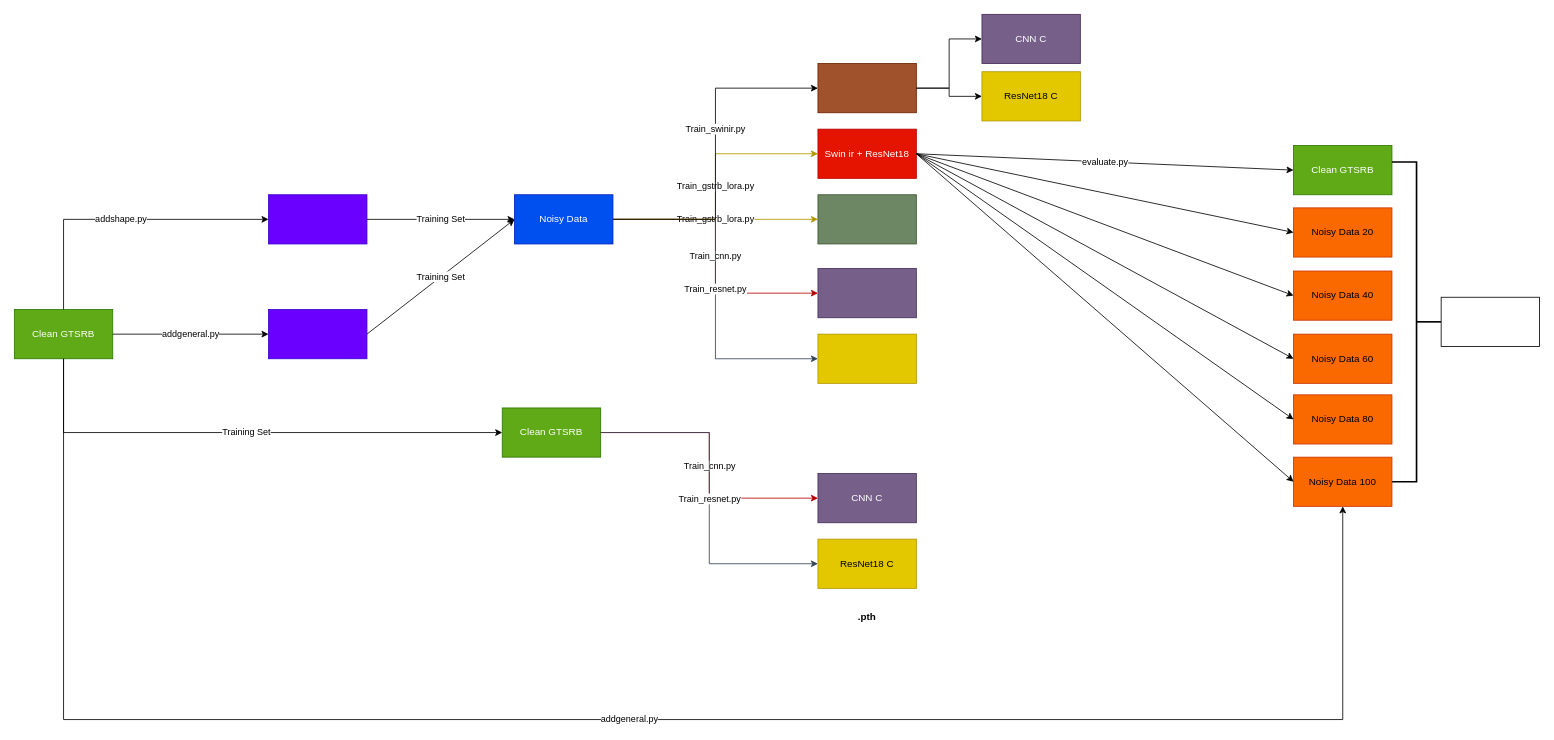
Some shapes in this 1554 by 740 pixel diagram are drawn without their labels. Here are the shapes that lost their labels. From the top down, the centre of each, then its label:
the point at 866,88: SwinIR
the point at 317,219: Graffiti
the point at 866,219: Swin ir + CNN
the point at 866,293: CNN N
the point at 317,334: Gaussian Noise
the point at 1490,321: Score
the point at 866,358: ResNet18 N
